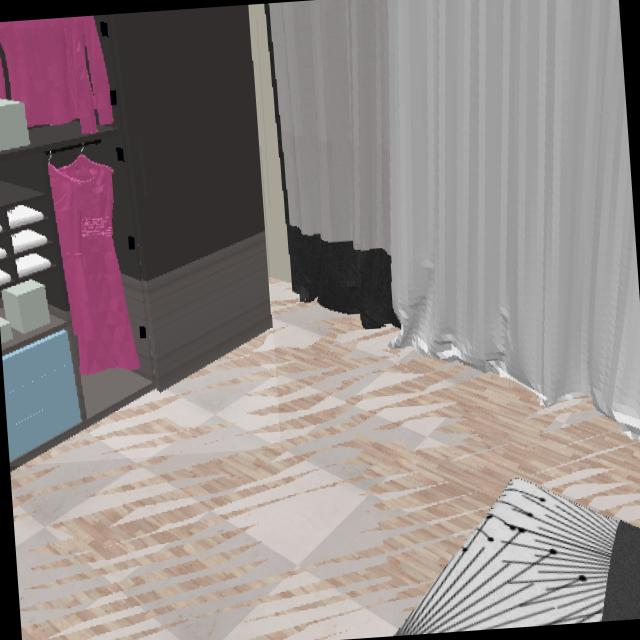shower: (394, 479, 640, 636)
wardrobe: (0, 4, 272, 466)
